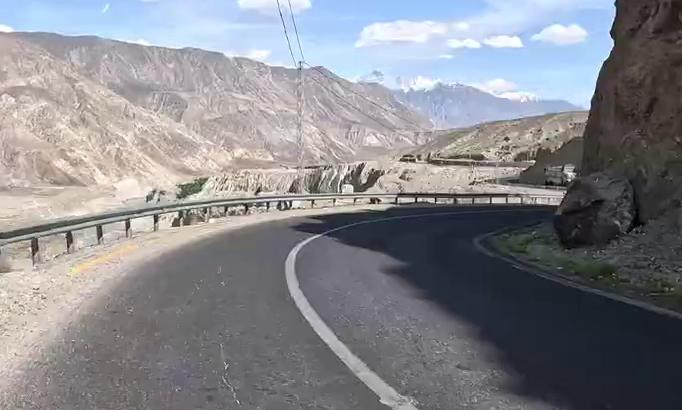stright: (217, 199, 553, 342)
